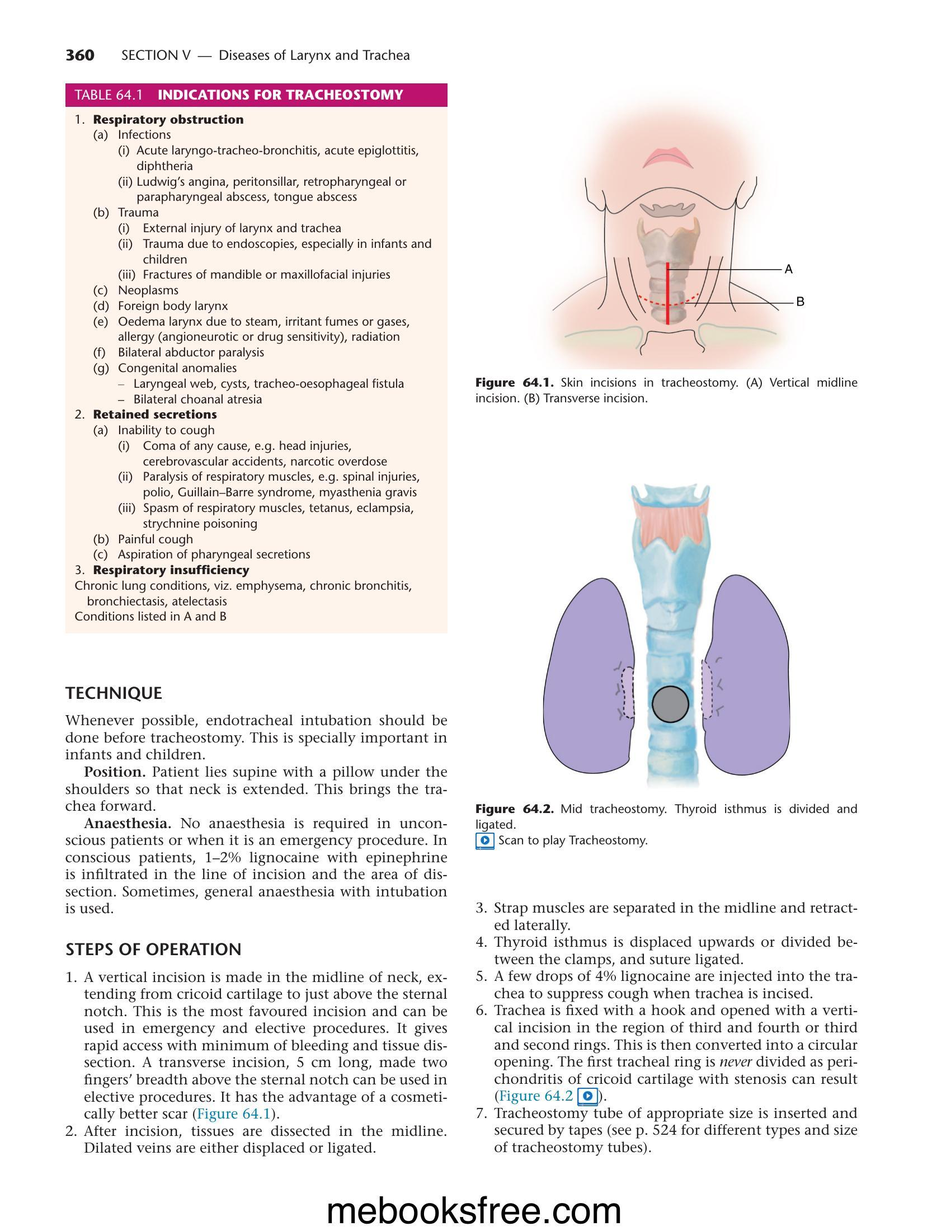caption: (473, 799, 861, 850), (473, 374, 860, 407), (73, 88, 406, 101)
header: (120, 47, 411, 65)
image: (489, 474, 844, 796), (497, 84, 841, 372)
list: (475, 901, 859, 1159), (64, 970, 449, 1158)
section-heading: (64, 941, 242, 957), (64, 684, 164, 702)
table: (64, 107, 448, 632)
text: (63, 714, 450, 916)
